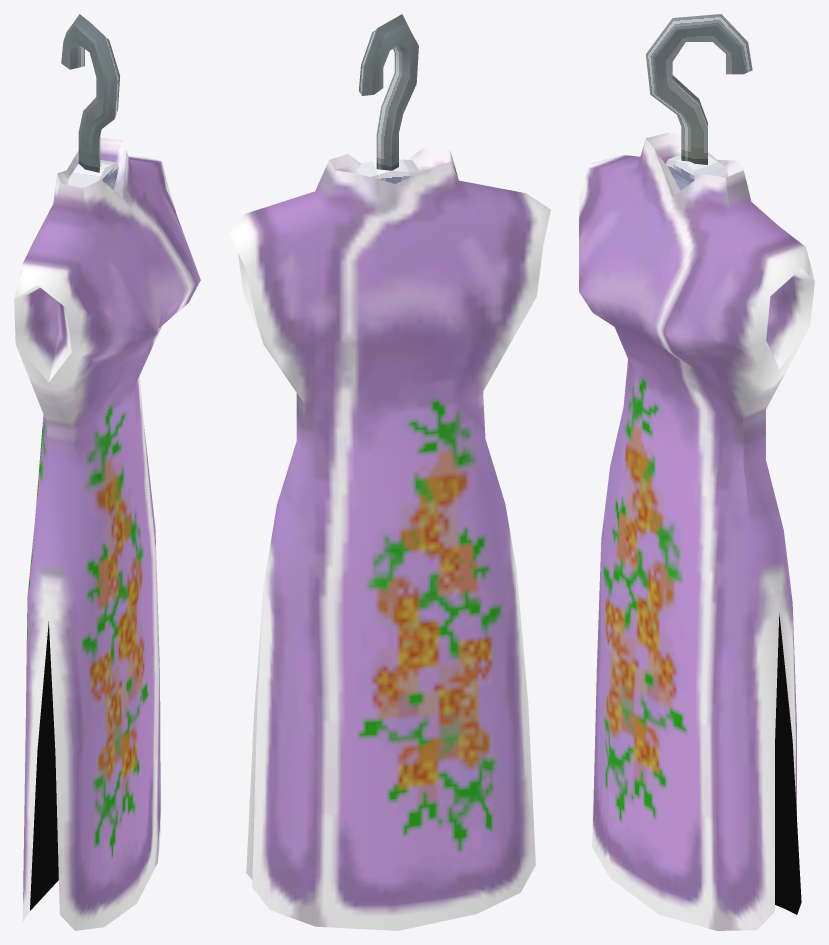
The model's file is fuku38_1.glb.
The picture shows the model from 3 angles, left to right: view 1: azimuth 30°, elevation 25°; view 2: azimuth 150°, elevation 25°; view 3: azimuth 270°, elevation 25°; orthographic projection. The views are drawn at different scales.
Parts seen in each view (by area): view 1: fuku38_1; view 2: fuku38_1; view 3: fuku38_1.
Part boxes in pixels (x1,y1,x2,y2): fuku38_1: (14,14,200,930); fuku38_1: (229,14,550,930); fuku38_1: (579,14,814,930).
Bounding box in the file's own units: 60 × 220 × 53.
3 materials, 3 textured.
